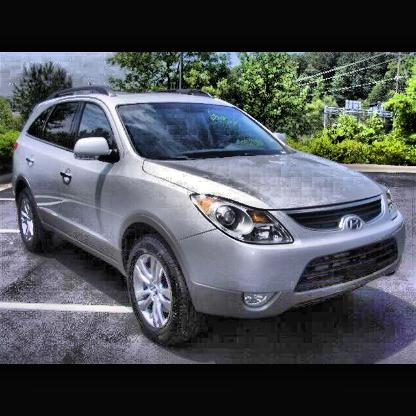Hyundai Veracruz SUV 2012: (14, 84, 406, 347)
